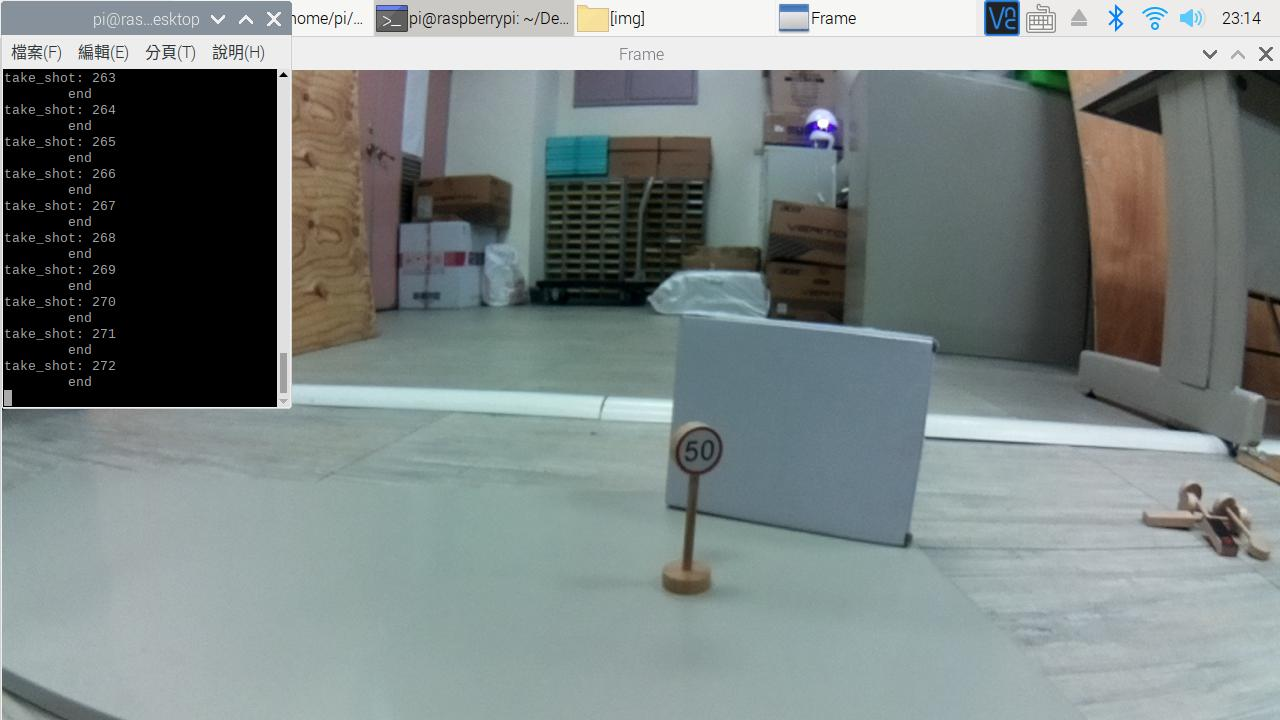Speed50: (656, 418, 744, 491)
